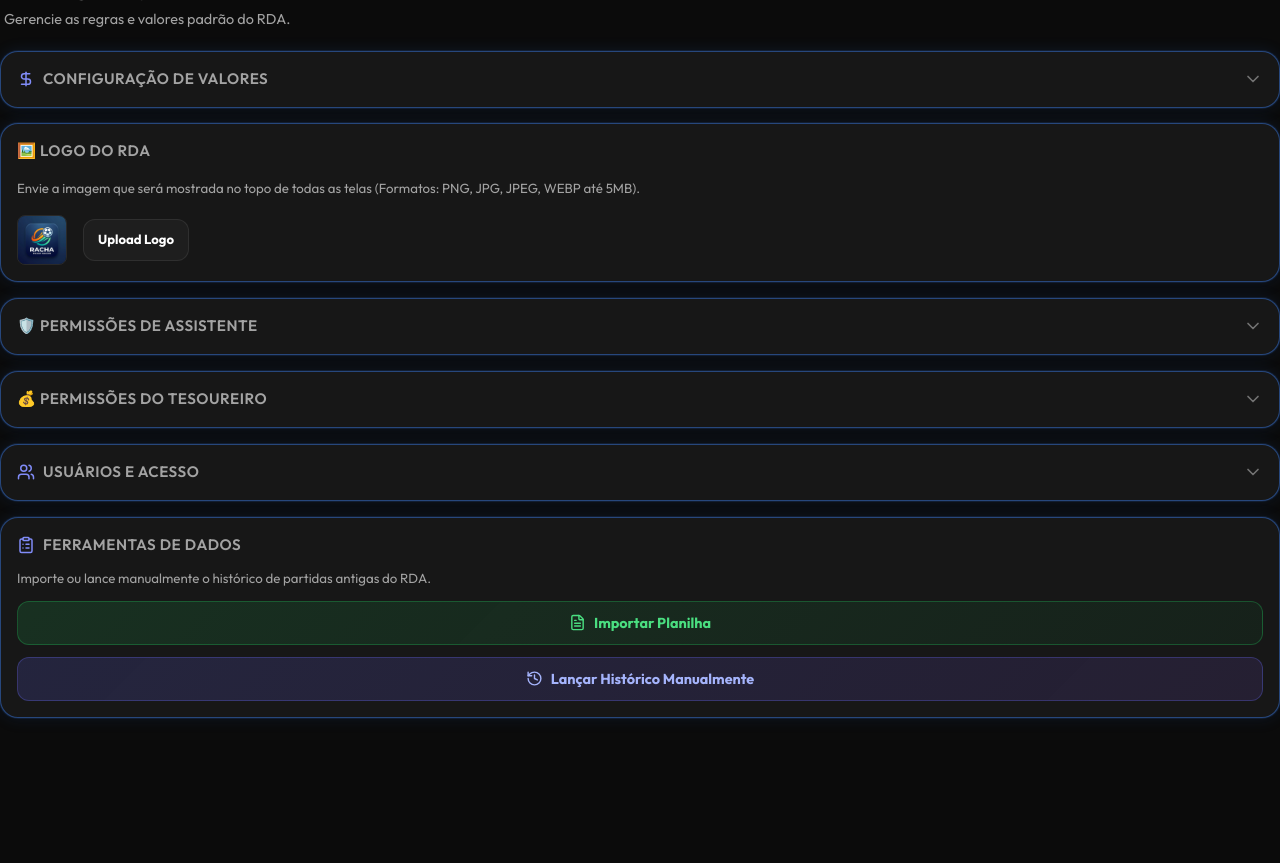
Configuracoes Component › should show Visitante section with "Acesso público"
The width and height of the screenshot is (1280, 863).
Step 1. Click the text "Usuários e Acesso" → (108, 472), box [17, 461, 199, 484]
(page scrolled)
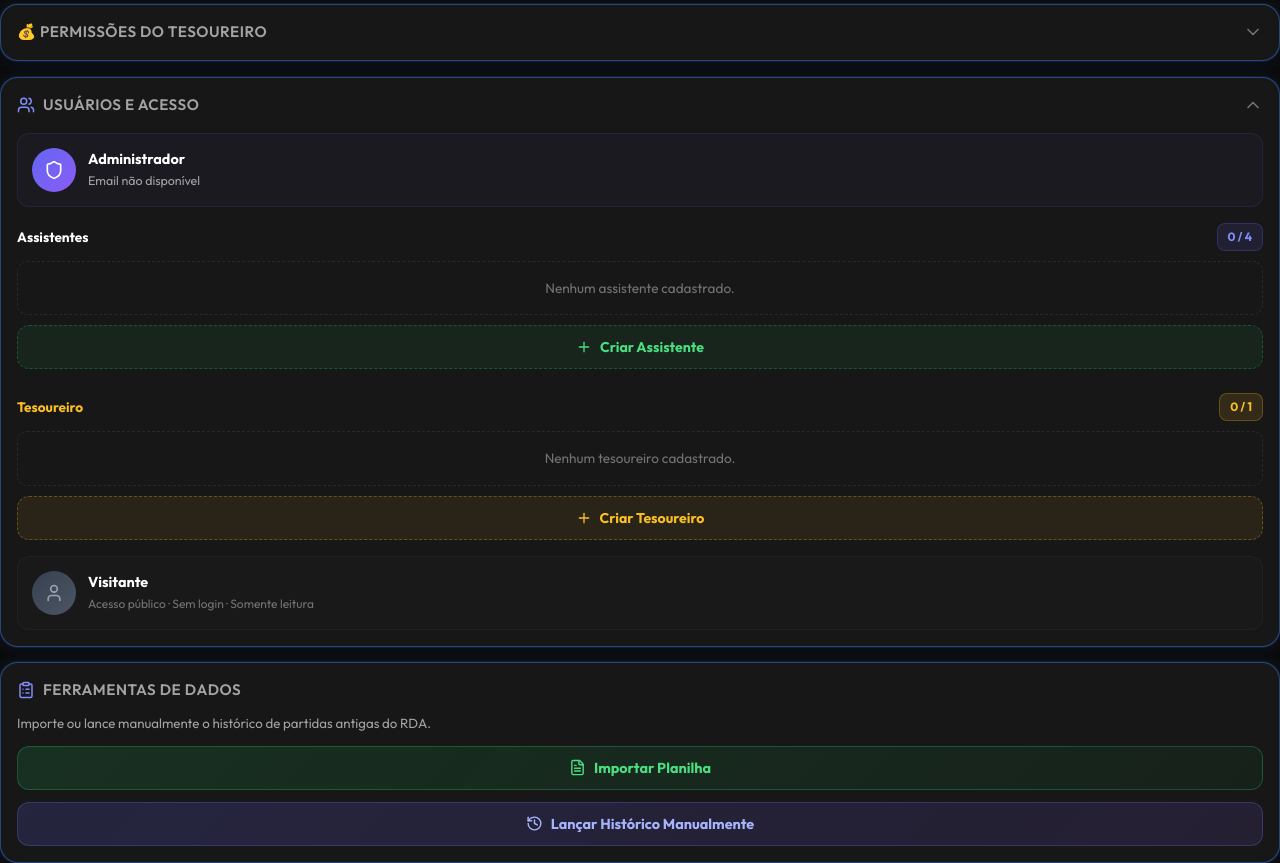
Result: the text "Visitante" is shown at [88, 572, 148, 590]
Result: the text "Acesso público · Sem login · Somente leitura" is shown at [88, 596, 314, 611]
